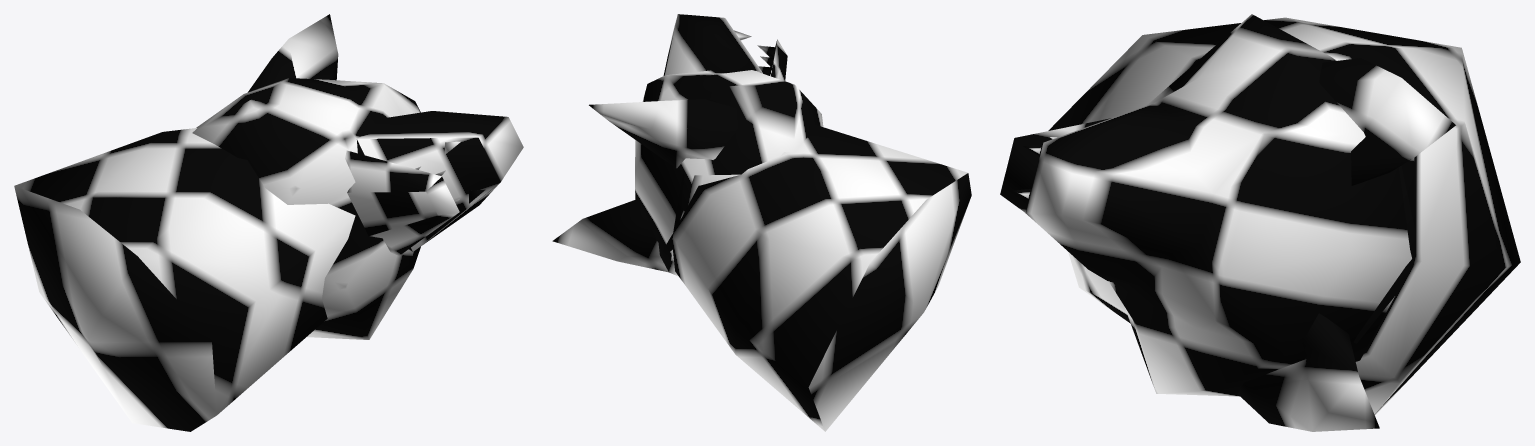
Rendered from initqu2.dae.
3 renders of one model, left to right at view 1: azimuth 30°, elevation 25°; view 2: azimuth 150°, elevation 25°; view 3: azimuth 270°, elevation 25°, orthographic. The views are drawn at different scales.
Parts seen in each view (by area): view 1: item; view 2: item; view 3: item.
Boxes of the visible parts, left/top/right/bottom form: item: left=14, top=14, right=523, bottom=431; item: left=552, top=14, right=971, bottom=431; item: left=1000, top=14, right=1520, bottom=431.
Bounding box in the file's own units: 1.65 × 1.42 × 1.38.
1 material, 1 textured.
